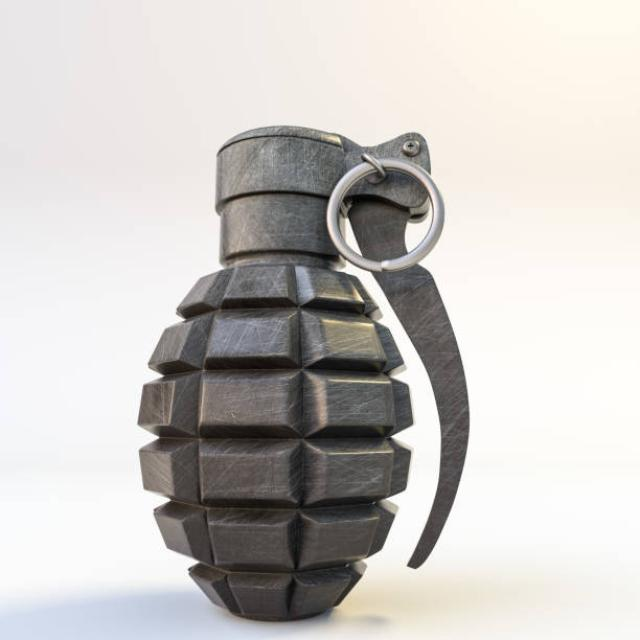grenade: (132, 99, 498, 631)
